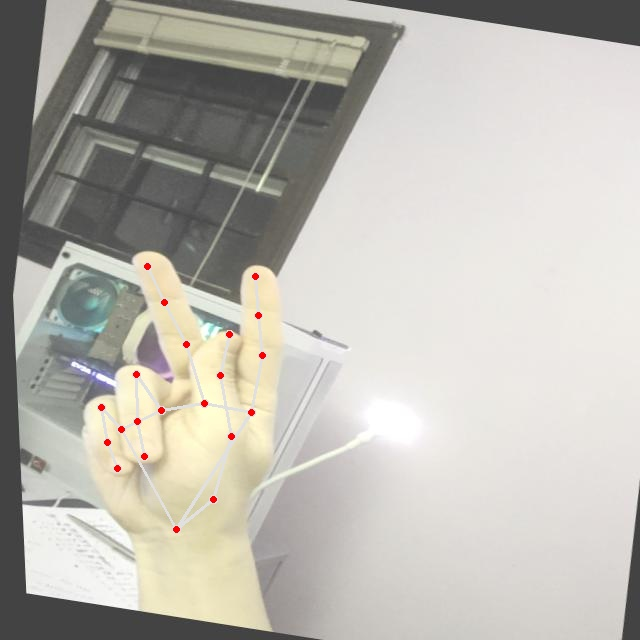K: (40, 233, 319, 572)
